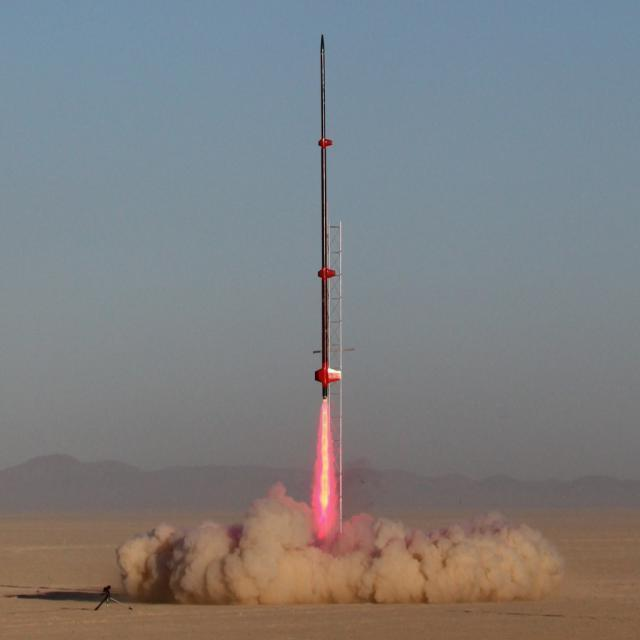missile: (316, 28, 342, 404)
